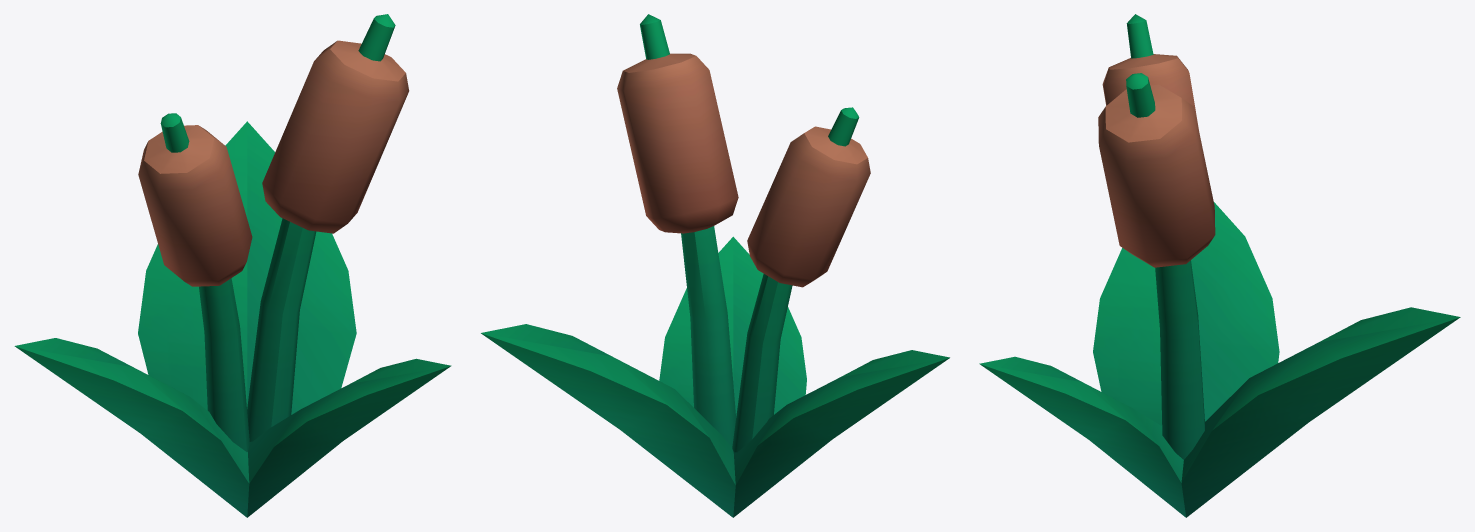
File: kaykit-medieval-hexagon-pack-waterplant-c.glb
3 views of the same model, side by side, from view 1: azimuth 30°, elevation 25°; view 2: azimuth 150°, elevation 25°; view 3: azimuth 270°, elevation 25° (orthographic). The views are drawn at different scales.
Visible parts, largest first — view 1: waterplant_C; view 2: waterplant_C; view 3: waterplant_C.
Boxes of the visible parts, left/top/right/bottom form: waterplant_C: left=14, top=14, right=451, bottom=517; waterplant_C: left=481, top=14, right=949, bottom=517; waterplant_C: left=979, top=14, right=1460, bottom=517.
Bounding box in the file's own units: 0.1983 × 0.2472 × 0.2157.
Materials: 1 (1 with a texture image).
